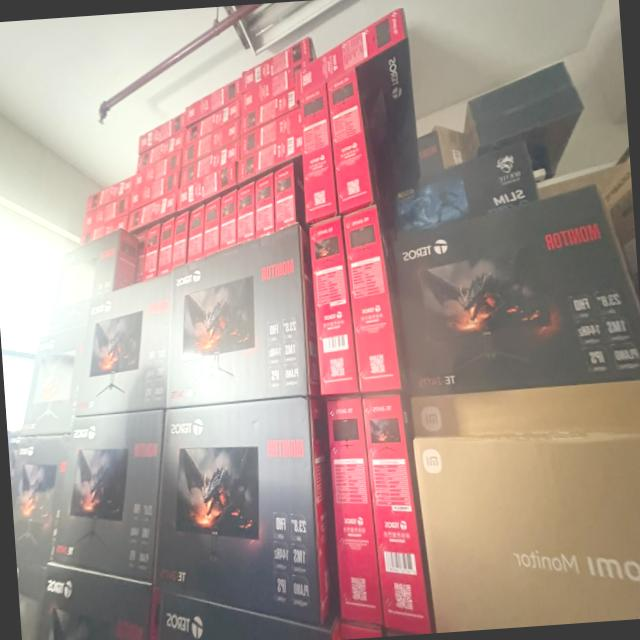caja-monitor: (392, 182, 640, 394), (416, 438, 640, 632), (153, 398, 321, 628), (164, 227, 307, 407), (295, 7, 418, 192), (49, 410, 163, 588), (363, 396, 430, 631), (383, 148, 535, 245), (412, 378, 640, 440), (71, 274, 170, 416), (326, 397, 380, 621), (342, 205, 398, 390), (47, 229, 137, 332), (36, 566, 150, 640), (310, 219, 358, 394), (161, 595, 329, 640), (11, 433, 67, 564), (19, 326, 85, 432), (326, 68, 372, 213), (299, 83, 335, 220), (240, 37, 310, 92), (238, 130, 302, 183), (240, 108, 300, 157), (177, 163, 236, 211), (179, 140, 239, 187), (184, 78, 240, 127), (182, 118, 239, 165), (239, 90, 297, 135), (184, 98, 239, 145), (240, 71, 295, 115), (128, 169, 179, 211), (132, 149, 180, 192), (127, 191, 176, 232), (139, 111, 186, 153), (137, 130, 184, 171), (86, 176, 135, 213), (82, 196, 130, 233), (80, 214, 129, 246), (273, 163, 295, 230), (256, 172, 274, 238), (186, 204, 204, 262), (219, 189, 236, 250), (141, 224, 159, 281), (237, 181, 253, 243), (157, 218, 174, 276), (171, 211, 188, 267), (202, 199, 218, 255)
